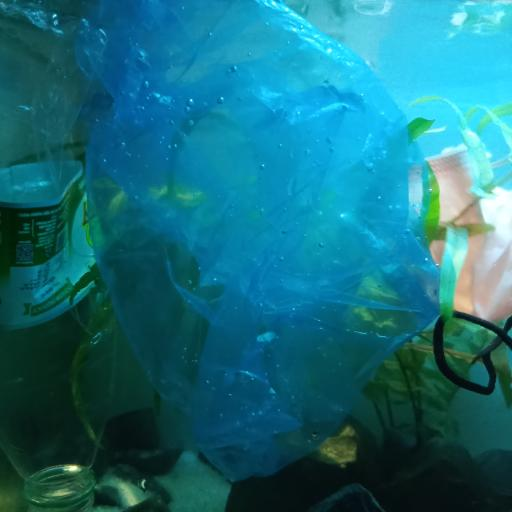mask: (397, 94, 512, 331)
plastic_bag: (59, 0, 446, 479)
plastic_bottle: (0, 0, 125, 512)
